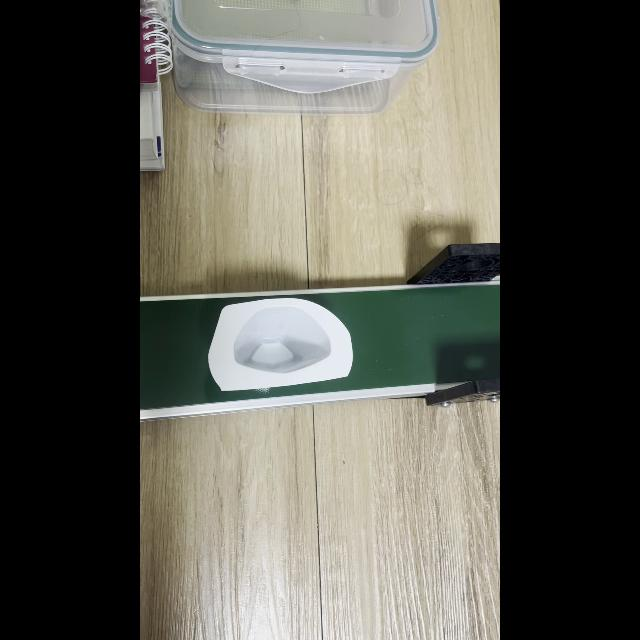clean: (218, 313, 344, 381)
